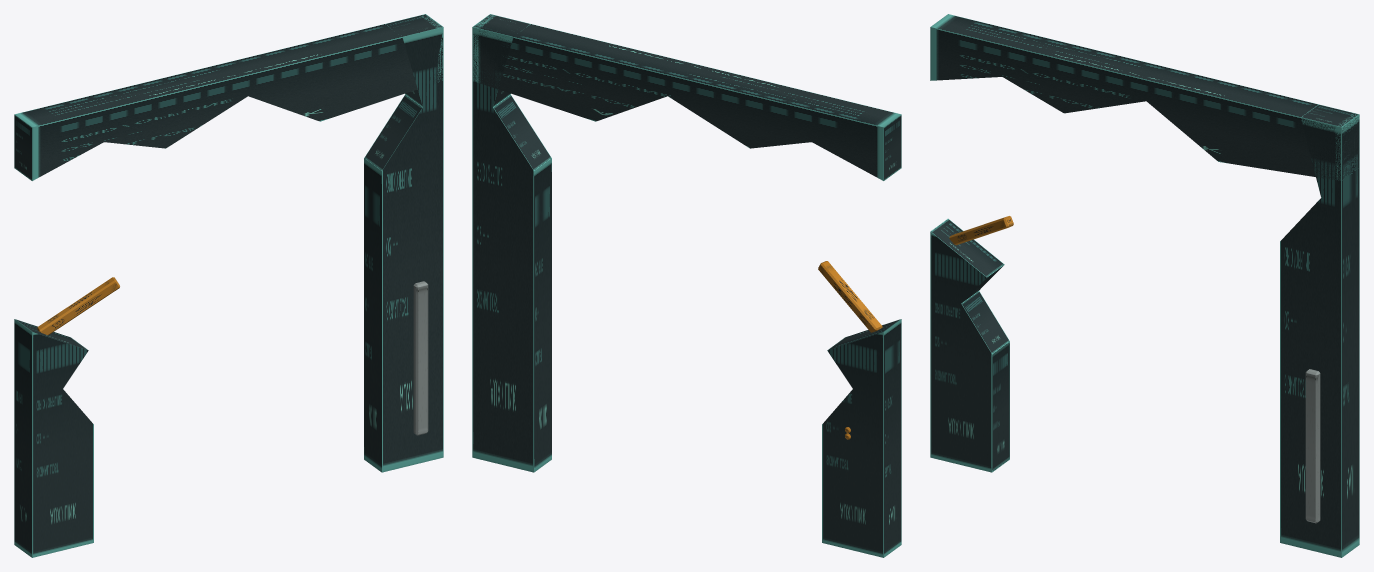
The model's file is wall_breach_4m_LOD0.obj.
3 renders of one model, left to right at view 1: azimuth 30°, elevation 25°; view 2: azimuth 150°, elevation 25°; view 3: azimuth 330°, elevation 25°, orthographic.
Parts seen in each view (by area): view 1: L02_wall_breach_4m_LOD0; view 2: L02_wall_breach_4m_LOD0; view 3: L02_wall_breach_4m_LOD0.
Boxes of the visible parts, x1,y1,x2,y2 form: L02_wall_breach_4m_LOD0: (14,14,443,557); L02_wall_breach_4m_LOD0: (472,14,901,557); L02_wall_breach_4m_LOD0: (930,14,1359,557).
Bounding box in the file's own units: 4 × 4 × 0.4216.
1 material, 1 textured.
